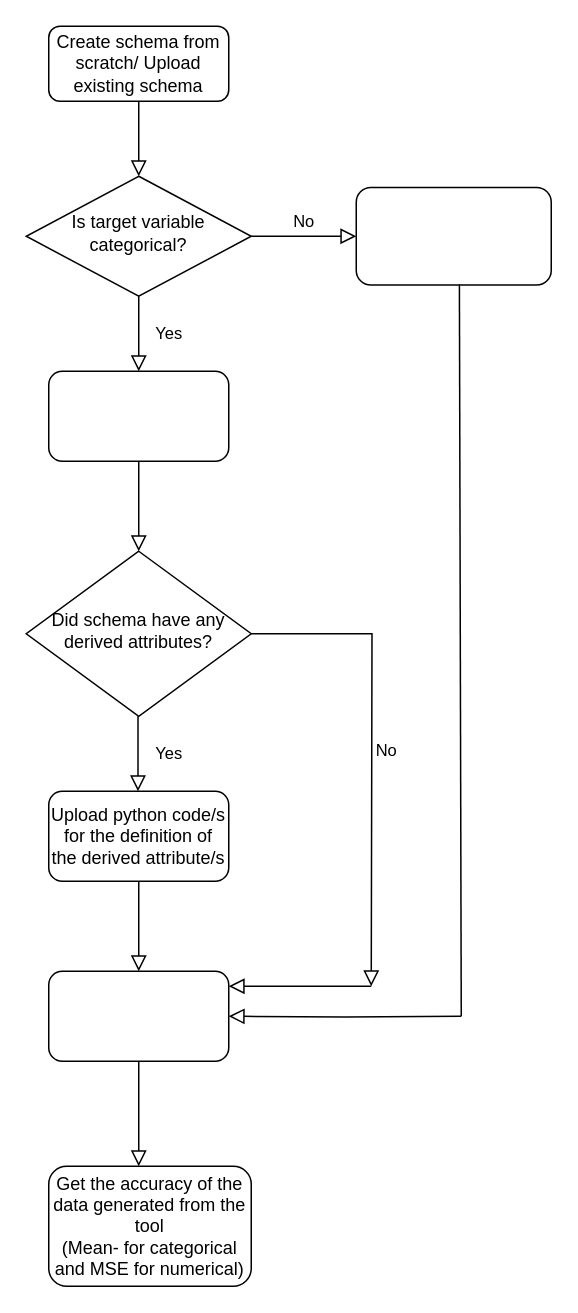
The diagram is 578 pixels wide and 1313 high, and some of its shapes have lost their labels. Here are the shapes that lost their labels. From the top down, the centre of each, then its label:
point (453, 235): Upload python code for the definition of the numerical attribute
point (138, 415): Create tree from scratch/ Upload existing tree
point (138, 1015): Generate and Download Data
